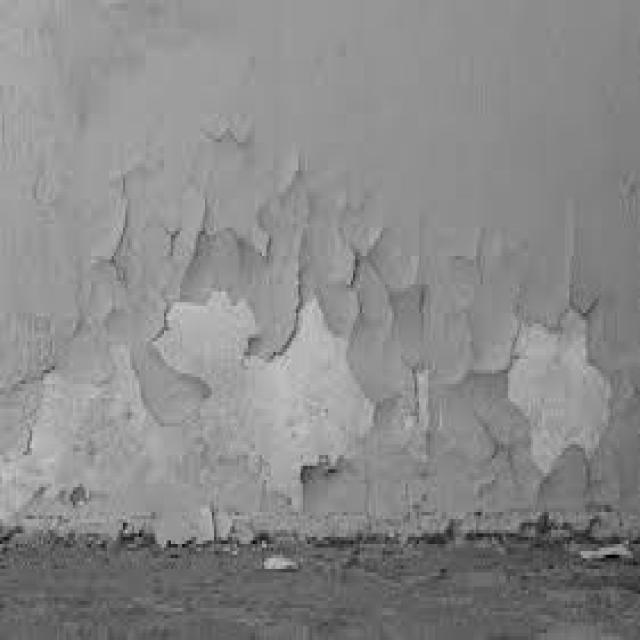peeling paint: (0, 72, 640, 540)
